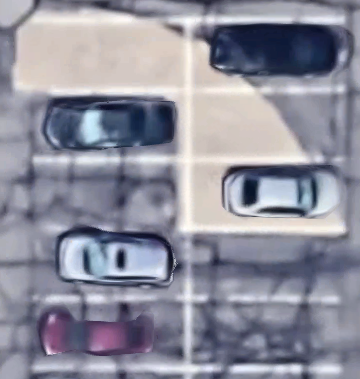Occupied: (188, 18, 346, 91), (29, 90, 188, 160), (31, 299, 188, 369), (30, 230, 188, 298)
Vacant: (28, 17, 188, 91), (30, 160, 187, 231), (187, 91, 344, 160), (188, 161, 342, 231), (189, 300, 340, 371), (189, 229, 340, 299)
